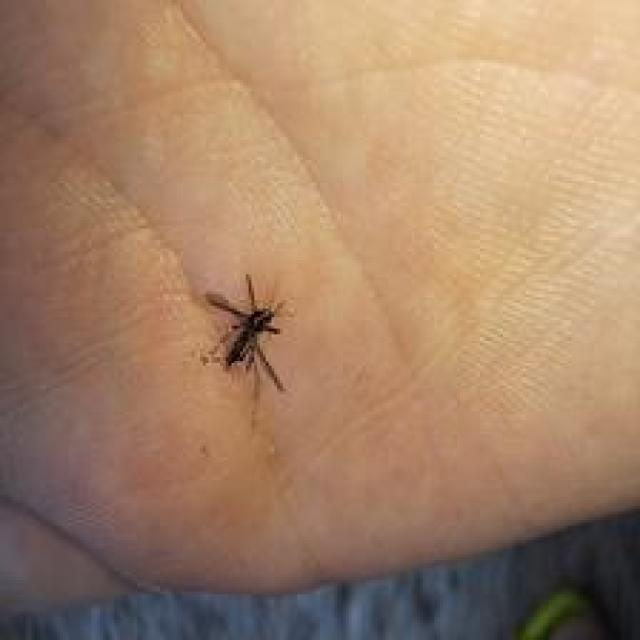Aedes albopictus: (200, 273, 294, 393)
